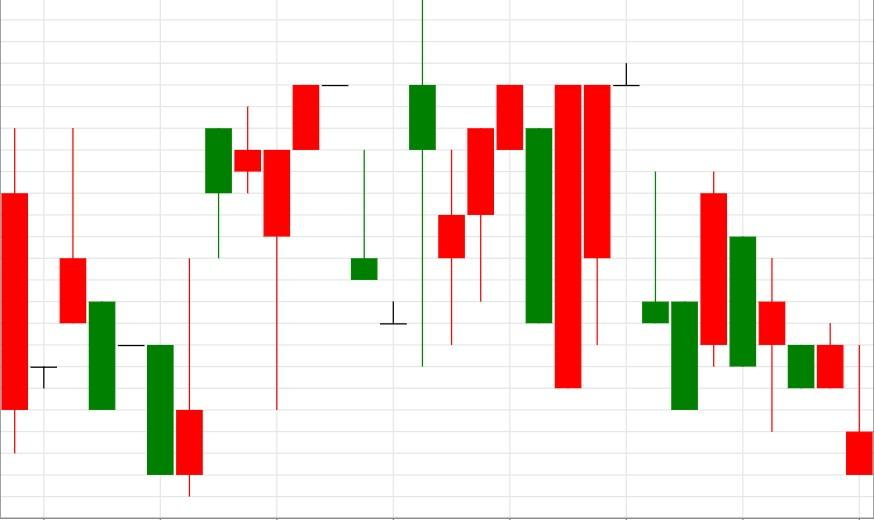inverse_hammer_rise: (58, 127, 204, 496), (700, 172, 874, 475)
